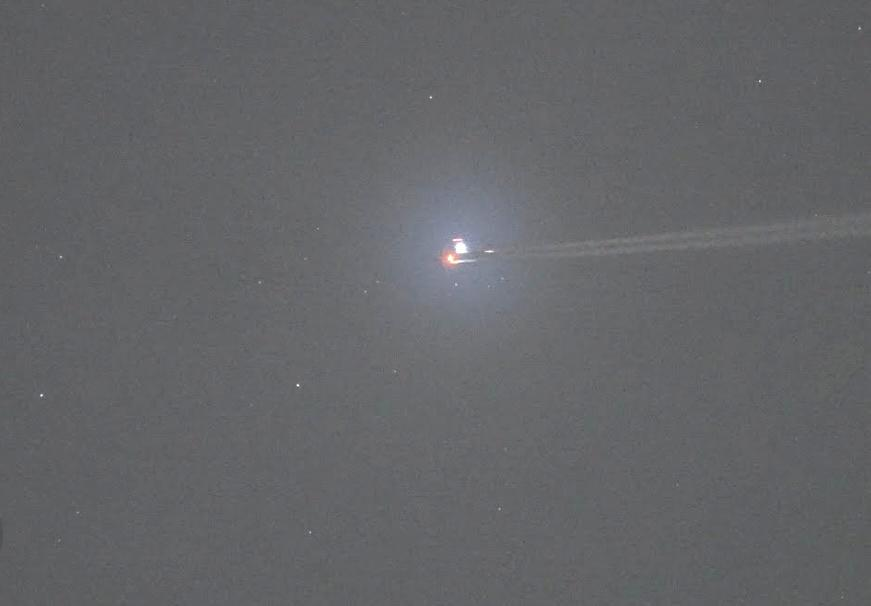Plane: (430, 226, 702, 288)
